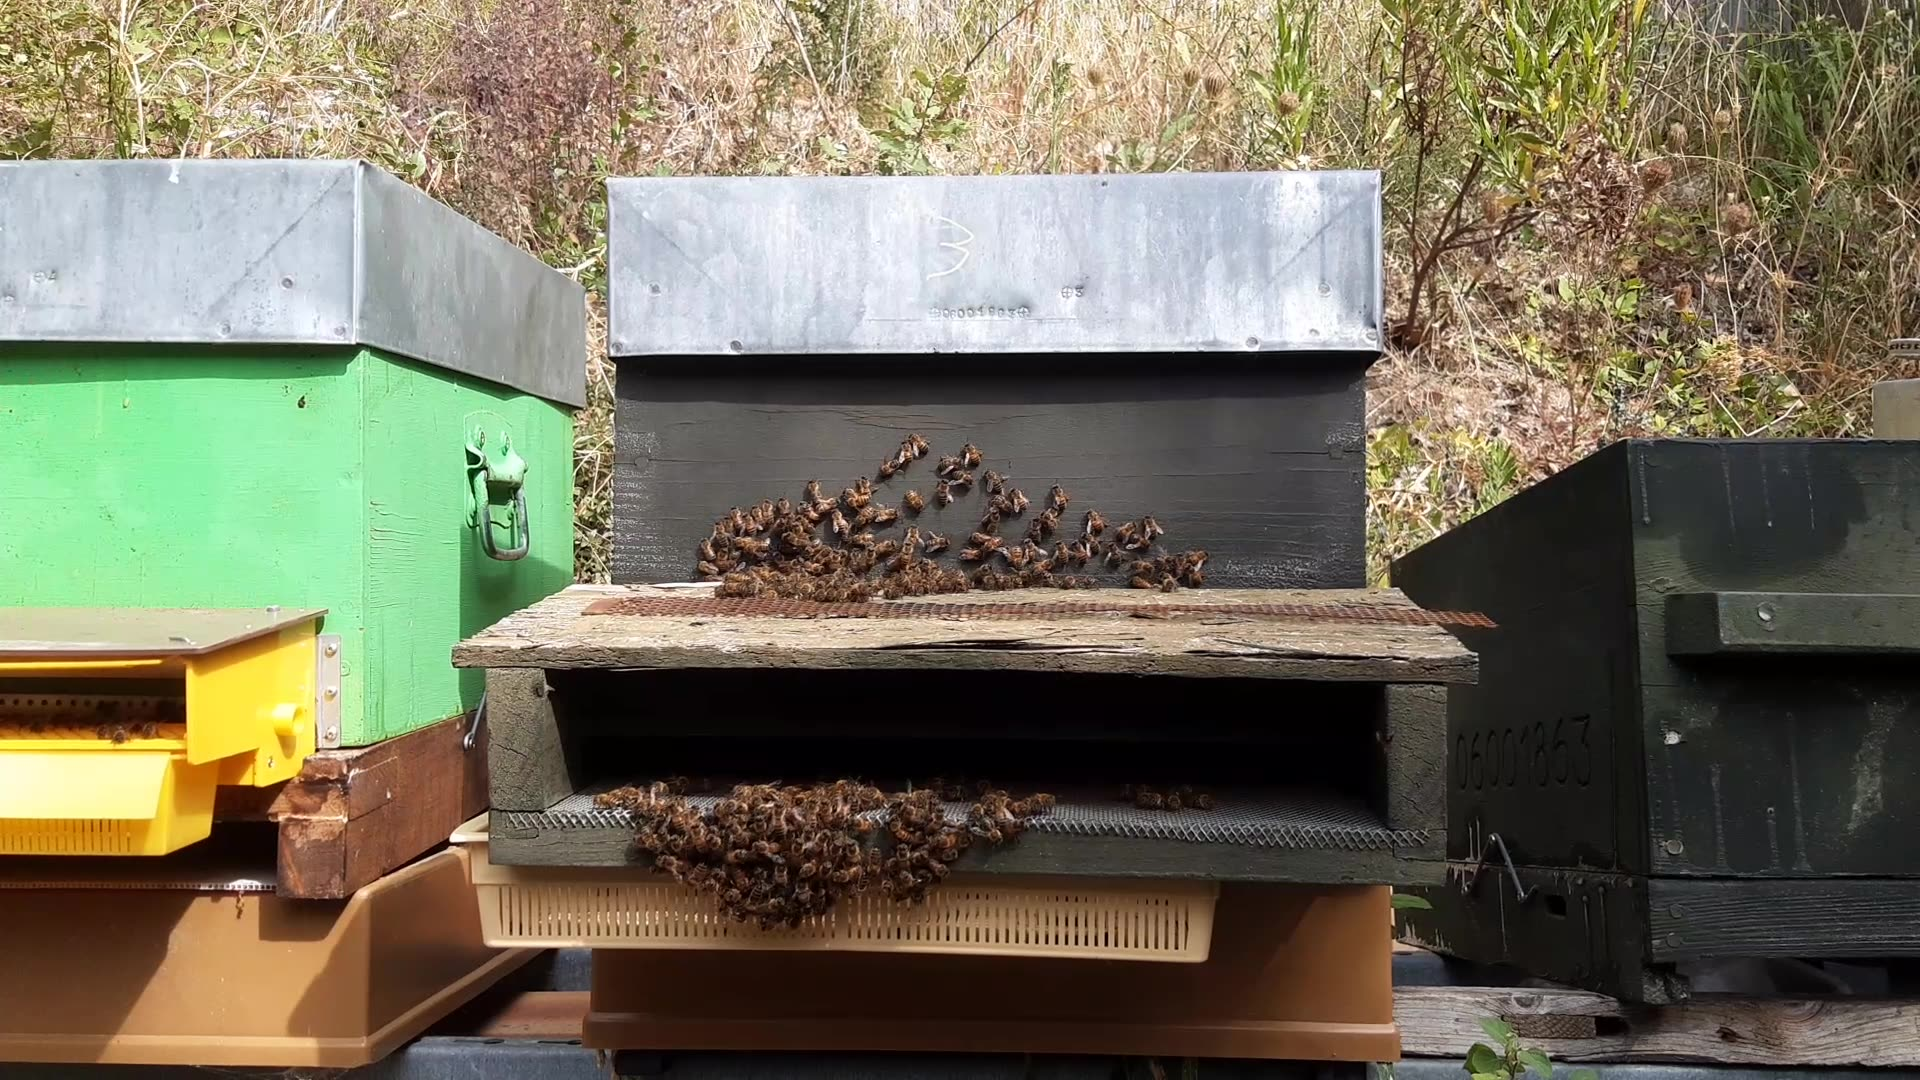bee: (735, 868, 825, 953), (603, 785, 713, 848), (876, 858, 967, 928), (949, 789, 1036, 844), (740, 787, 827, 841), (947, 531, 1015, 593), (1109, 531, 1184, 584), (735, 513, 803, 567), (1370, 314, 1424, 375), (1021, 520, 1083, 571), (858, 525, 920, 575), (926, 464, 982, 508), (887, 468, 942, 510), (891, 423, 945, 464), (1019, 495, 1065, 533)
